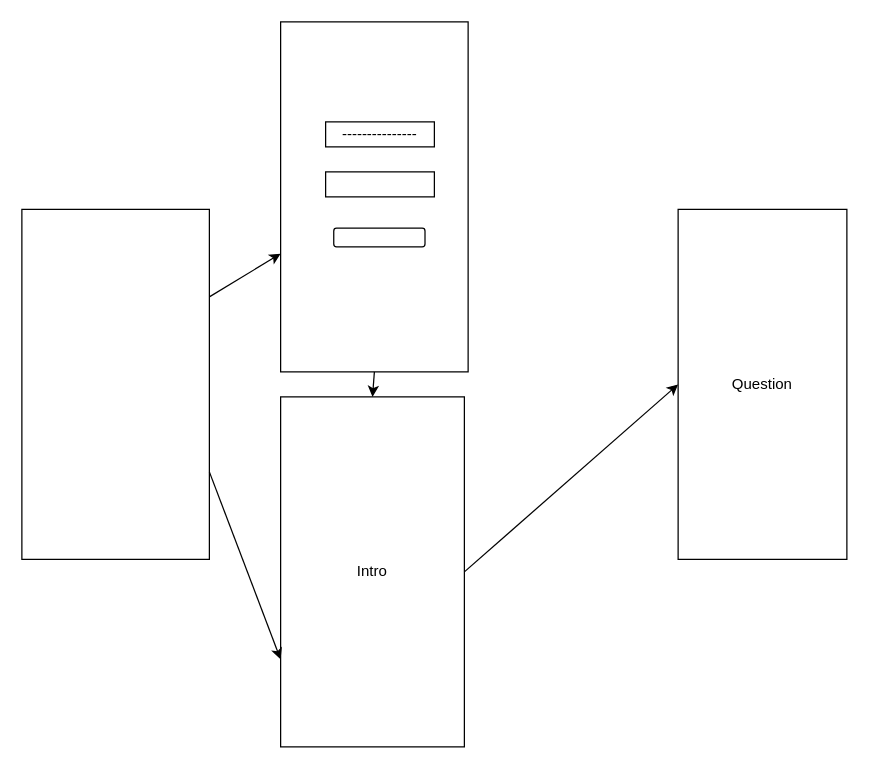
The diagram is 869 pixels wide and 769 high, and some of its shapes have lost their labels. The shapes that lost their labels are listed below. From the top down, each one's box as (x1, y1, x2, y2) in pixels, then its label:
(332, 227, 425, 247): Login
(21, 208, 209, 559): Splash
